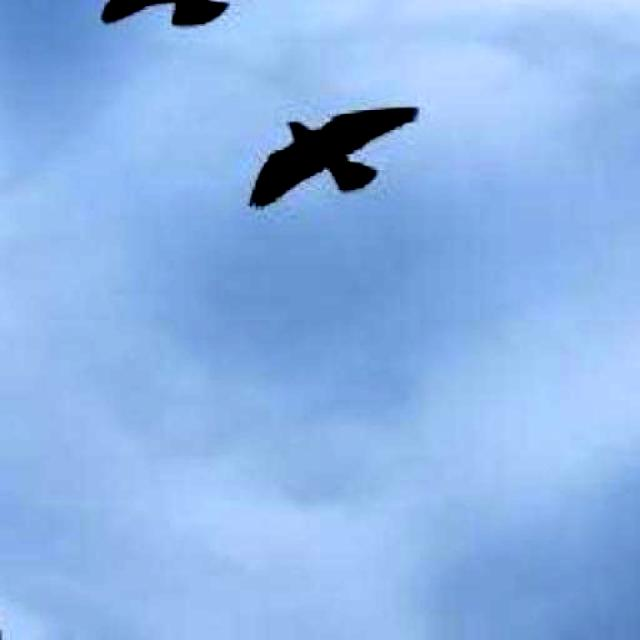airplane: (252, 98, 424, 210), (96, 0, 274, 39)
